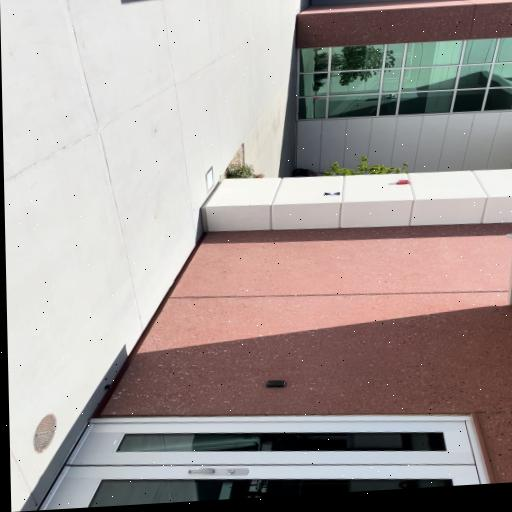target6: (323, 192, 340, 197)
